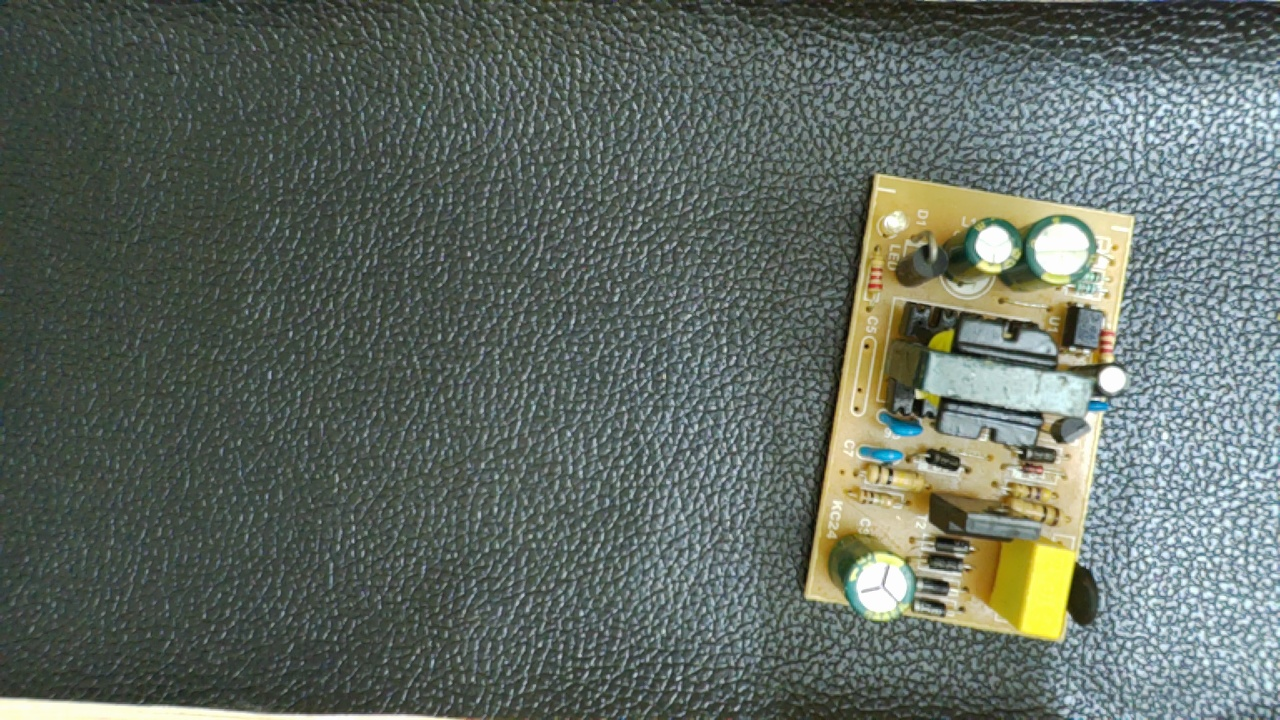fuse: (1062, 551, 1106, 632)
hv_capacitor: (824, 528, 920, 627)
optocoupler: (1056, 293, 1109, 363)
